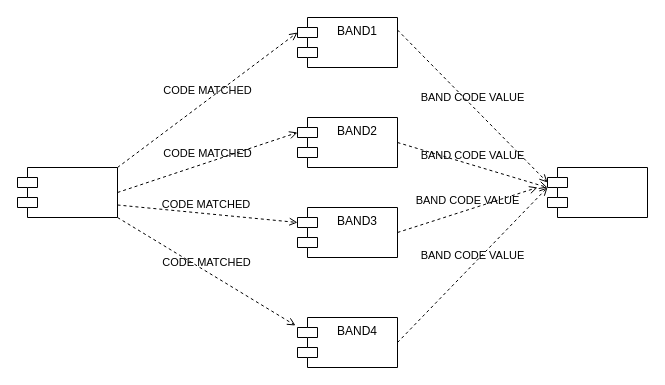
The diagram is 665 pixels wide and 385 high, and some of its shapes have lost their labels. The shapes that lost their labels are listed below. From the top down, each one's centre as x and y in pixels, then its label:
At point 67,192: "INPUT".
At point 597,192: "OUTPUT".
